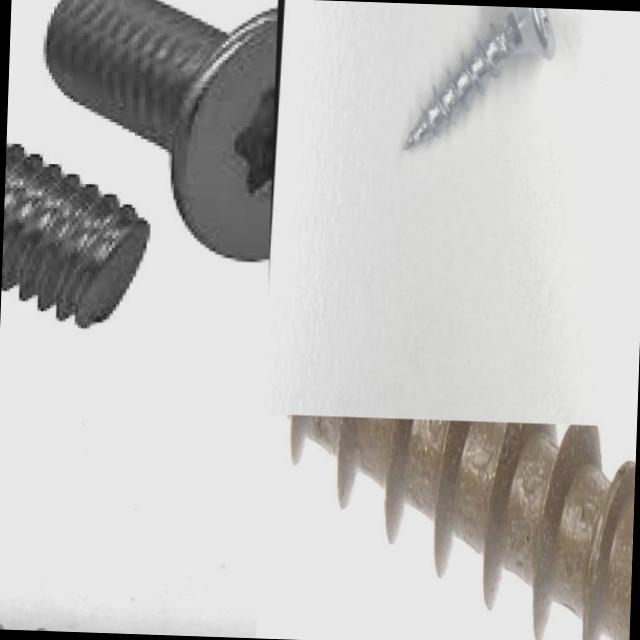Screw: (262, 414, 635, 640), (44, 0, 277, 265), (1, 141, 150, 326), (403, 6, 555, 148), (0, 568, 257, 638)
